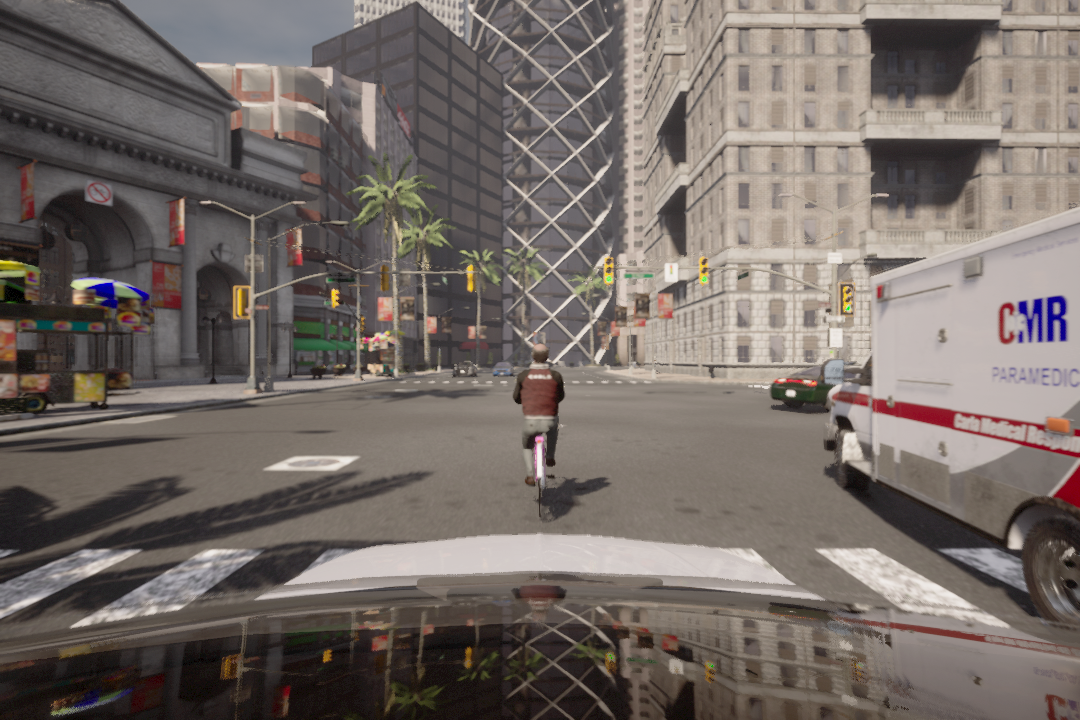TrafficLight: (838, 284, 857, 317), (698, 259, 711, 287), (604, 257, 615, 286)
TrafficSign: (84, 181, 114, 204)
walkside: (1, 547, 1076, 641), (394, 375, 658, 387)
